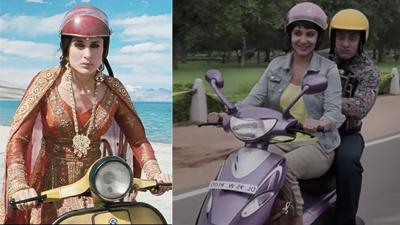With Helmet: (55, 4, 116, 75), (281, 2, 332, 57), (329, 6, 371, 60)
